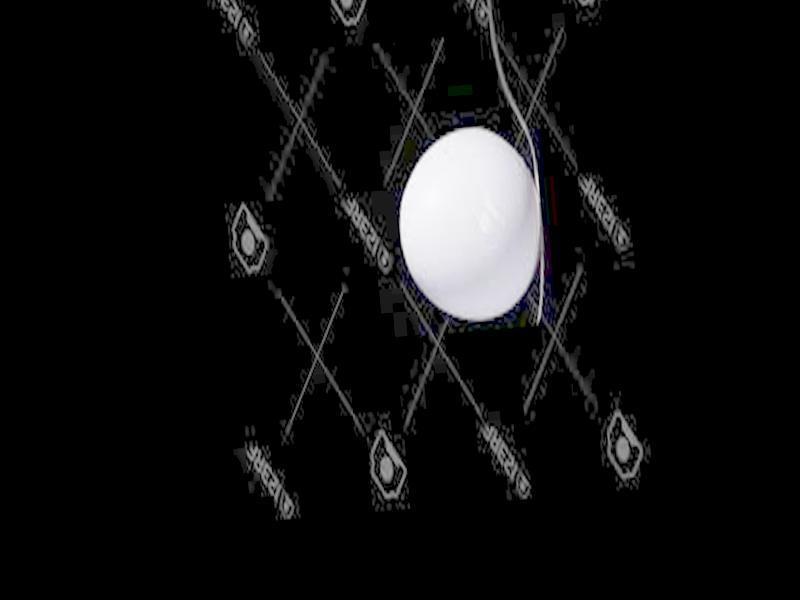Eggs: (393, 122, 548, 326)
